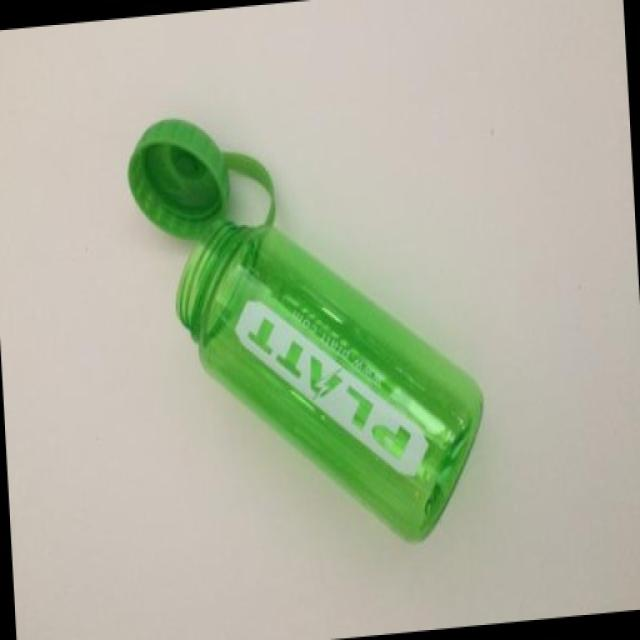plastico: (66, 44, 515, 572)
